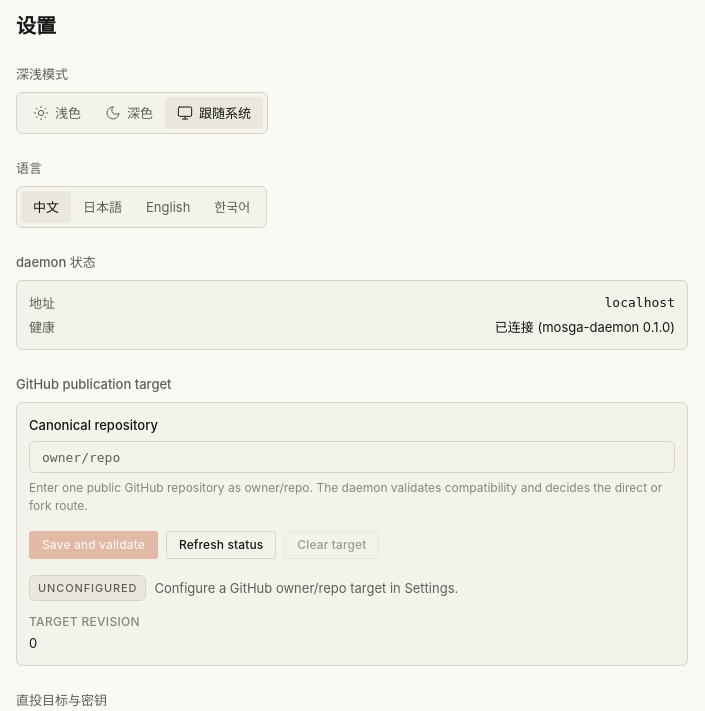
SettingsPage — GitHub publication target › saves the exact owner/repo draft and renders returned server truth
The width and height of the screenshot is (705, 711).
Type "community/dataset" into the field labelled "Canonical repository" at (352, 457), box [29, 441, 675, 473]
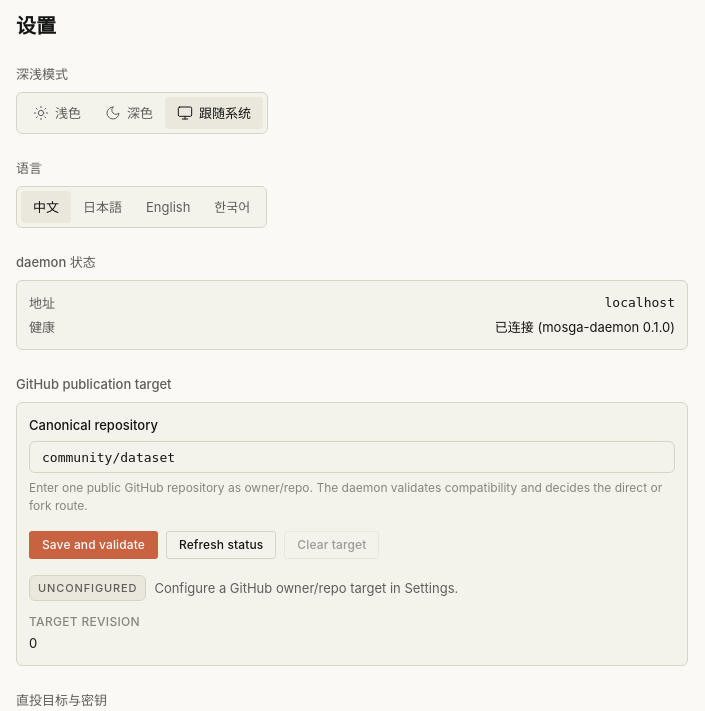
Click the button "Save and validate" at (93, 545), box [29, 531, 158, 559]
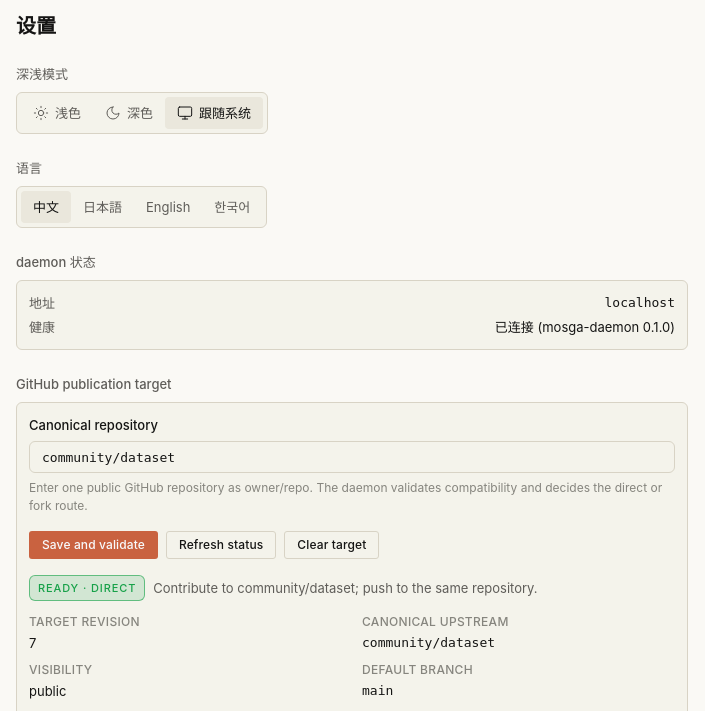
Expected: the text "Ready · direct" is shown, [29, 575, 145, 601]
Expected: the text "community/dataset" is shown 2 times
